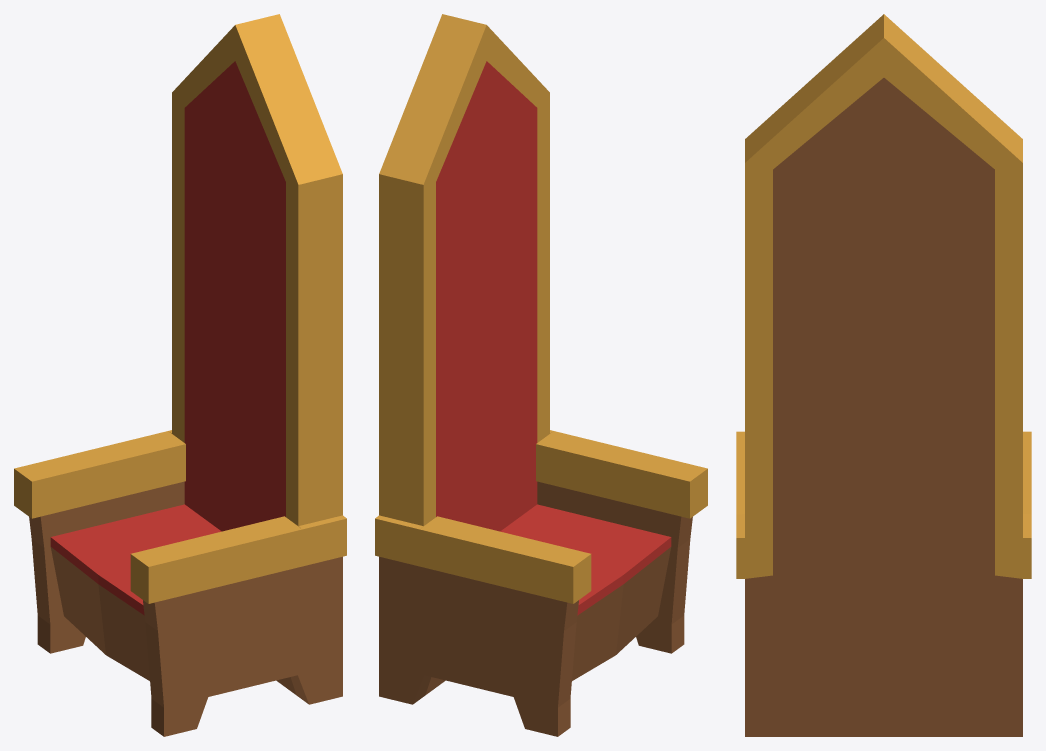
File: Throne.fbx
3 renders of one model, left to right at view 1: azimuth 30°, elevation 25°; view 2: azimuth 150°, elevation 25°; view 3: azimuth 270°, elevation 25°, orthographic. The views are drawn at different scales.
Parts seen in each view (by area): view 1: Cube.015; view 2: Cube.015; view 3: Cube.015.
Boxes of the visible parts, <box> form: Cube.015: <box>14,14,346,736</box>; Cube.015: <box>375,14,707,736</box>; Cube.015: <box>736,14,1031,736</box>.
Size of the model in its own units: 32.37 by 99.18 by 38.
